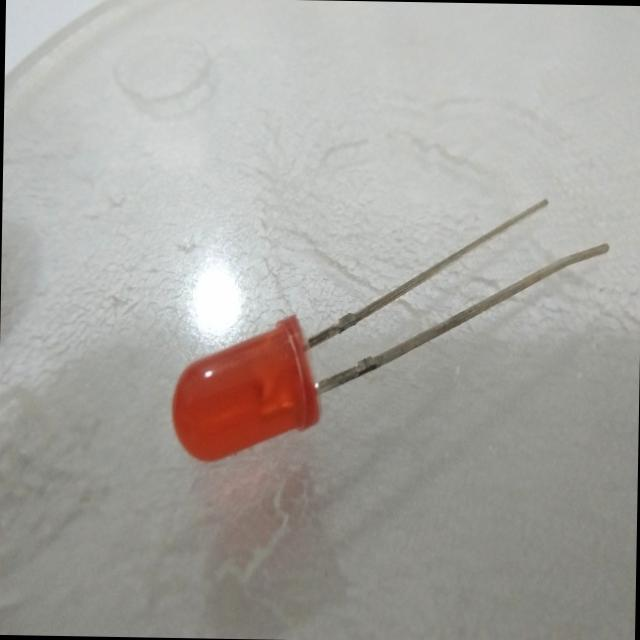red_led: (155, 302, 330, 489)
